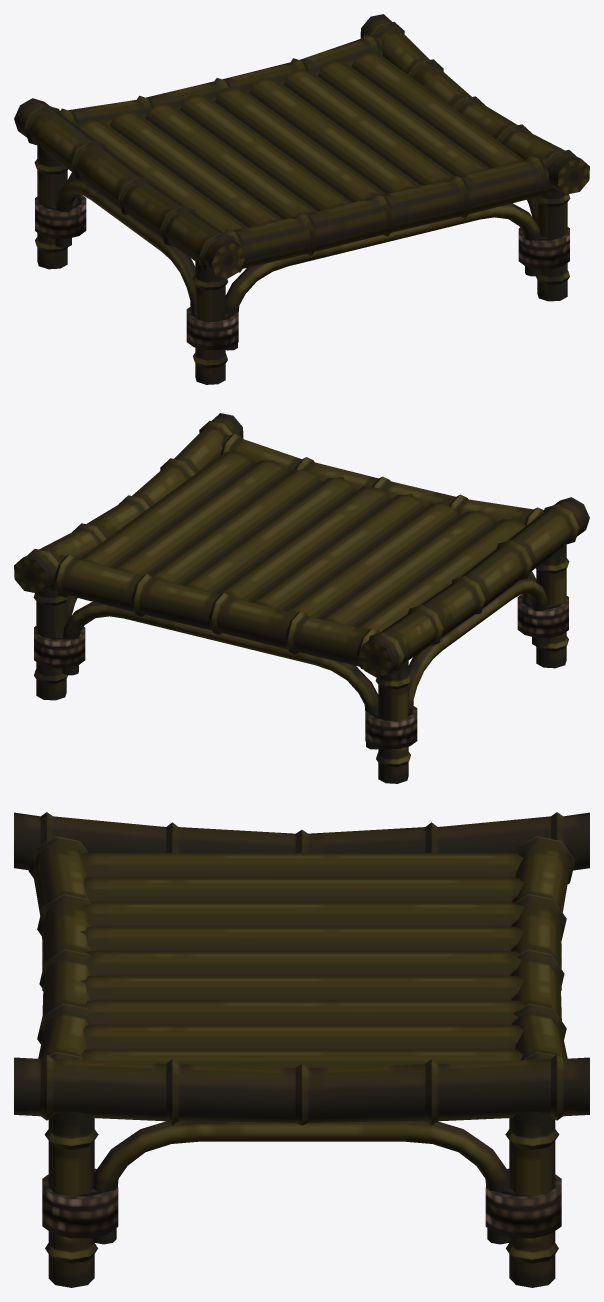
The model's file is EnvObjMD_Table_D_Bamboo_A.FBX.
3 renders of one model, top to bottom at view 1: azimuth 30°, elevation 25°; view 2: azimuth 150°, elevation 25°; view 3: azimuth 270°, elevation 25°, orthographic. The views are drawn at different scales.
Parts seen in each view (by area): view 1: EnvObjMD_Table_D_Bamboo_A; view 2: EnvObjMD_Table_D_Bamboo_A; view 3: EnvObjMD_Table_D_Bamboo_A.
Part boxes in pixels (x1,y1,x2,y2): EnvObjMD_Table_D_Bamboo_A: [14, 14, 589, 384]; EnvObjMD_Table_D_Bamboo_A: [14, 413, 589, 783]; EnvObjMD_Table_D_Bamboo_A: [14, 812, 589, 1287].
Size of the model in its own units: 222 by 84.55 by 200.
